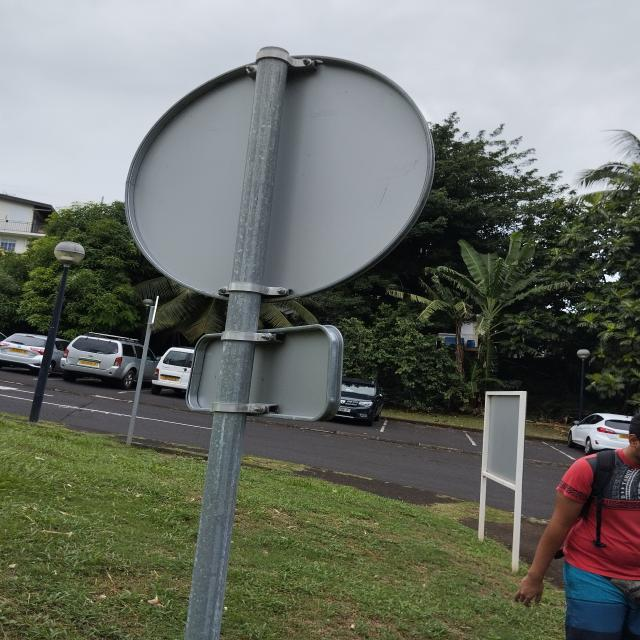Panneau: (121, 44, 440, 309)
